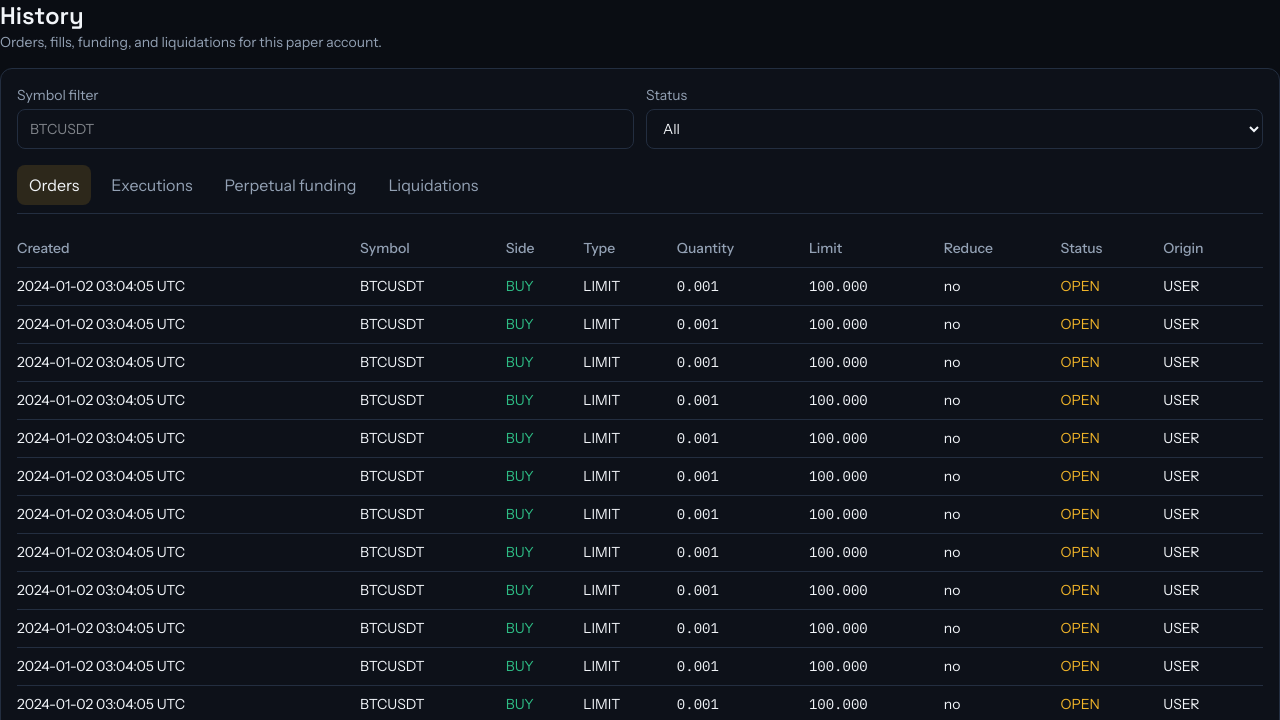
Test case: HistoryPage › resets row count before a new filter result can re-enable Next
Select "FILLED" in the dropdown named "Order status" at (954, 129), box [646,109,1263,149]
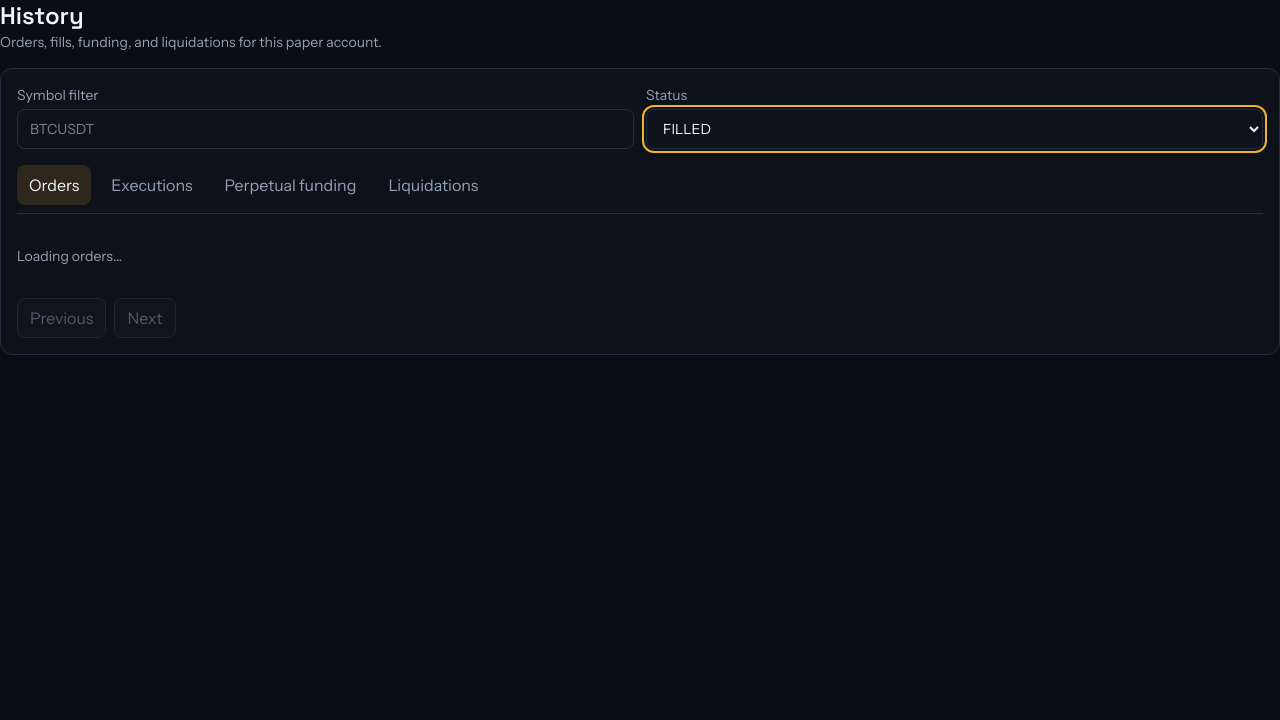
Check: the button "Next" is disabled, box [114,298,176,338]
Check: the text "Loading orders…" is shown, box [17,247,122,265]
